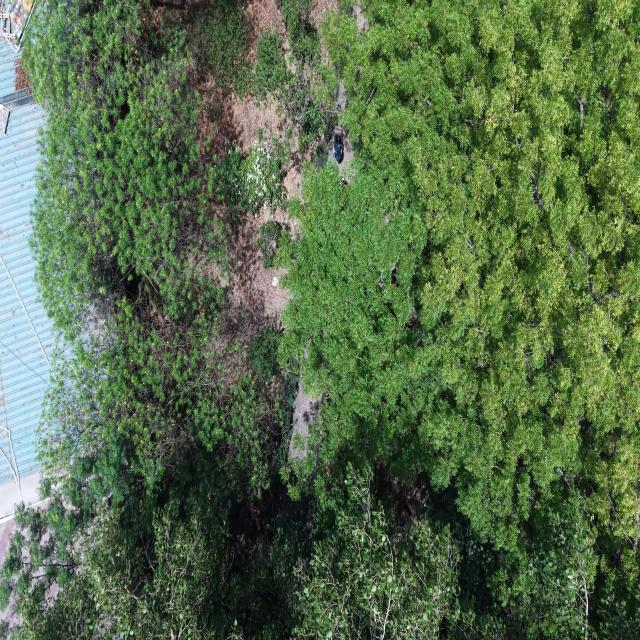DRY_AREA: (201, 208, 299, 384), (192, 203, 290, 346), (202, 209, 298, 344), (201, 211, 290, 345), (212, 208, 299, 344), (224, 208, 299, 342), (219, 95, 310, 199), (226, 208, 296, 343), (221, 209, 290, 343), (223, 218, 289, 343), (196, 78, 285, 155), (198, 80, 285, 157), (198, 81, 286, 153), (223, 95, 286, 152), (375, 462, 428, 525), (230, 96, 285, 153), (198, 80, 237, 157), (289, 379, 320, 460), (244, 0, 285, 59), (285, 148, 314, 199), (335, 126, 354, 180), (310, 0, 338, 33), (310, 0, 338, 32), (0, 513, 16, 563), (0, 515, 16, 562), (284, 161, 302, 199), (0, 516, 15, 561), (14, 58, 31, 95), (341, 132, 354, 171), (353, 5, 368, 31), (337, 80, 346, 111)
ROOFTOP_BUILDING: (0, 42, 54, 518), (0, 0, 33, 52)
VEGETATION_TREE: (0, 0, 639, 639), (282, 0, 639, 637), (2, 0, 304, 639), (24, 2, 218, 338), (293, 467, 458, 638), (253, 0, 338, 149), (280, 0, 337, 147), (213, 138, 287, 227), (189, 0, 250, 93), (253, 30, 288, 99), (249, 326, 279, 380), (257, 220, 283, 268)
